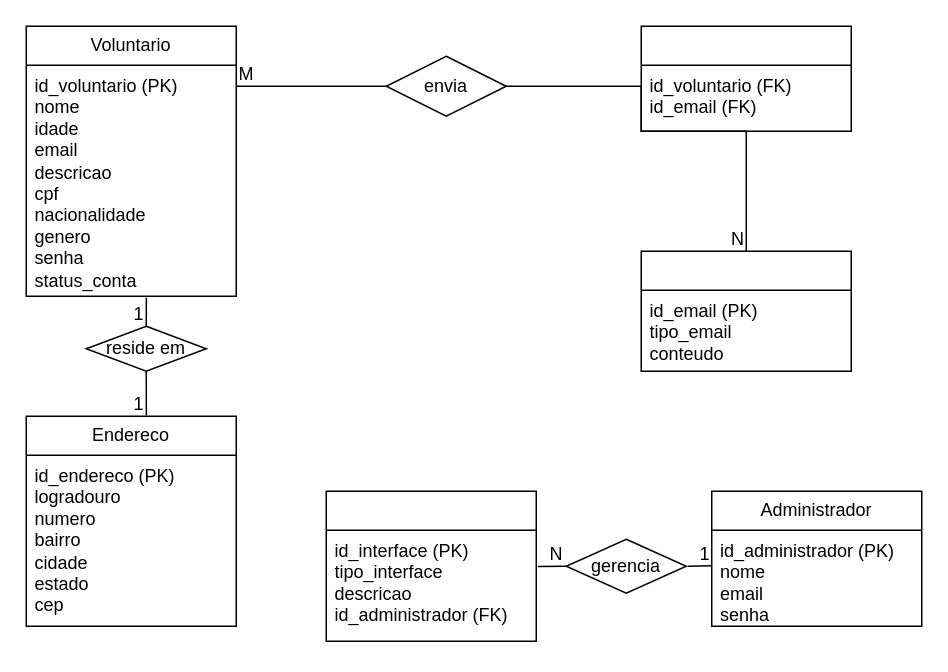
Image size: 948x672. Some labels were removed from this diagram. Here are the shapes that lost their labels. From the top down, the box of each, then its label:
(640, 25, 851, 131): Voluntario_Email
(640, 250, 851, 371): EmailService
(325, 490, 536, 641): CadastroInterface
